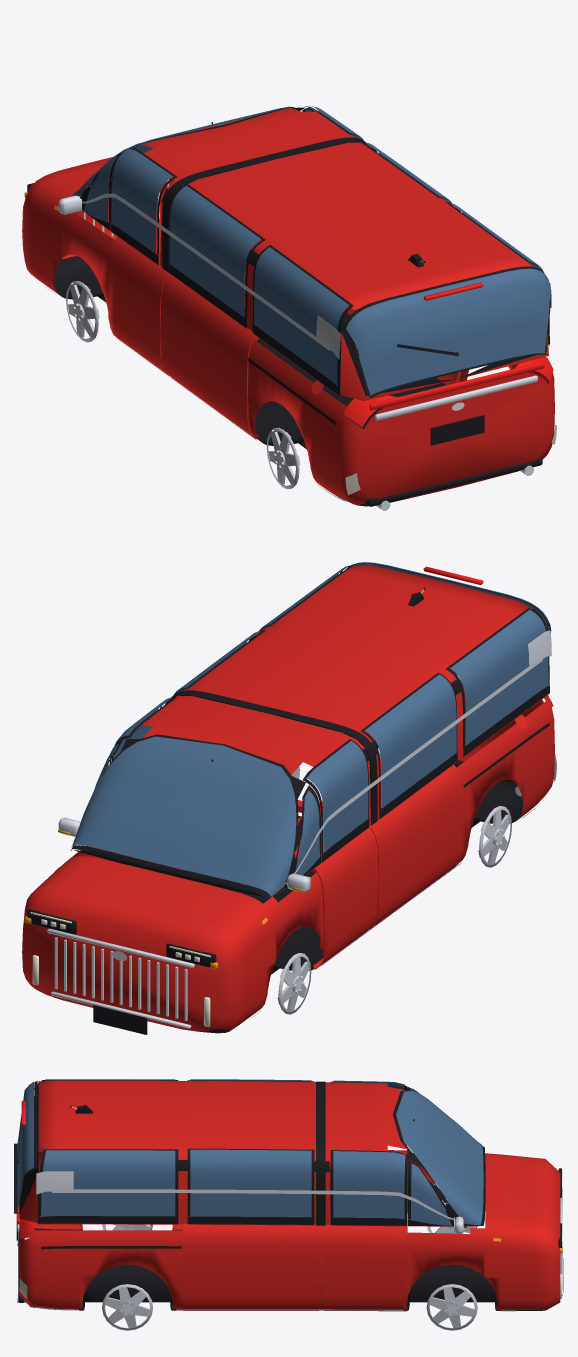
File: veh_alphard.fbx
3 renders of one model, top to bottom at view 1: azimuth 30°, elevation 25°; view 2: azimuth 150°, elevation 25°; view 3: azimuth 270°, elevation 25°, orthographic. The views are drawn at different scales.
Visible parts, largest first — view 1: Body, Glass, Detail, SlideDoor_L, SlideDoor_L_Glass, Door_FL, Door_FL_Glass, BrakeLights, Rim_RL, Rim_FL; view 2: Body, Glass, Detail, SlideDoor_L, SlideDoor_L_Glass, Door_FL, Door_FL_Glass, Rim_FL, Rim_RL, Door_FR_Glass; view 3: Body, Glass, SlideDoor_R, Door_FR, Detail, SlideDoor_R_Glass, Door_FR_Glass, Rim_FR, Rim_RR, BrakeLights.
Boxes of the visible parts, x1,y1,x2,y2 form: Body: [22, 107, 554, 506]; Glass: [72, 106, 550, 395]; Detail: [24, 107, 551, 510]; SlideDoor_L: [163, 184, 265, 439]; SlideDoor_L_Glass: [169, 186, 260, 317]; Door_FL: [108, 148, 176, 375]; Door_FL_Glass: [112, 148, 172, 253]; BrakeLights: [343, 282, 553, 427]; Rim_RL: [266, 427, 300, 489]; Rim_FL: [66, 281, 99, 342]; Body: [22, 565, 554, 1033]; Glass: [71, 562, 550, 896]; Detail: [24, 563, 551, 1034]; SlideDoor_L: [319, 672, 462, 929]; SlideDoor_L_Glass: [365, 674, 456, 808]; Door_FL: [294, 739, 376, 969]; Door_FL_Glass: [307, 740, 368, 852]; Rim_FL: [277, 953, 311, 1014]; Rim_RL: [478, 806, 511, 867]; Door_FR_Glass: [113, 697, 172, 759]; Body: [19, 1080, 560, 1310]; Glass: [17, 1079, 483, 1225]; SlideDoor_R: [183, 1148, 318, 1310]; Door_FR: [323, 1150, 407, 1311]; Detail: [14, 1080, 563, 1311]; SlideDoor_R_Glass: [190, 1149, 311, 1217]; Door_FR_Glass: [333, 1151, 405, 1219]; Rim_FR: [426, 1284, 477, 1330]; Rim_RR: [102, 1284, 153, 1330]; BrakeLights: [16, 1101, 34, 1239].
Size of what is drawn, in the model's own units: 2.15 by 2 by 5.08.
Materials: 1 (1 with a texture image).
